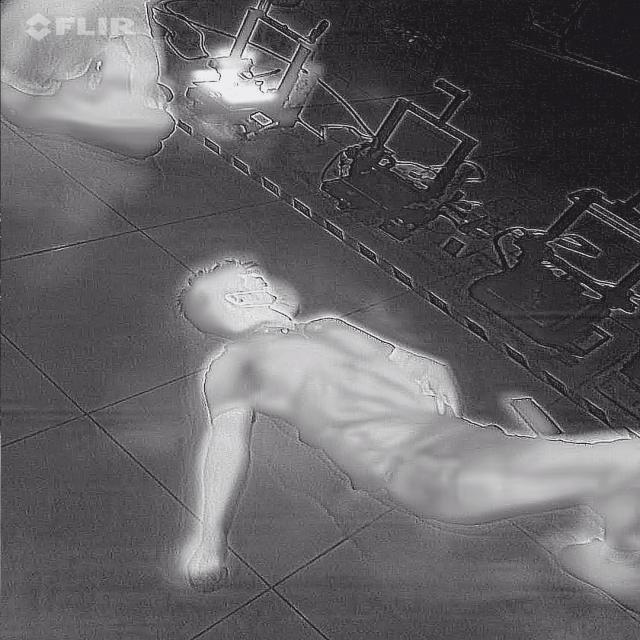Victim: (168, 251, 638, 619), (0, 0, 176, 165)
